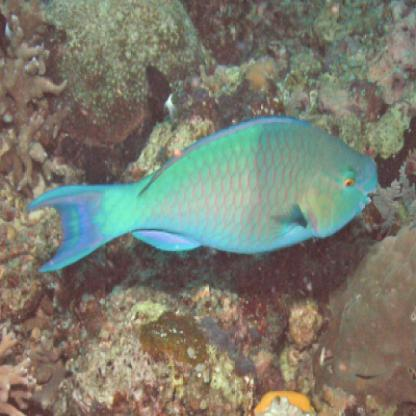damsel: (139, 57, 187, 132)
parrot: (28, 113, 384, 280)
